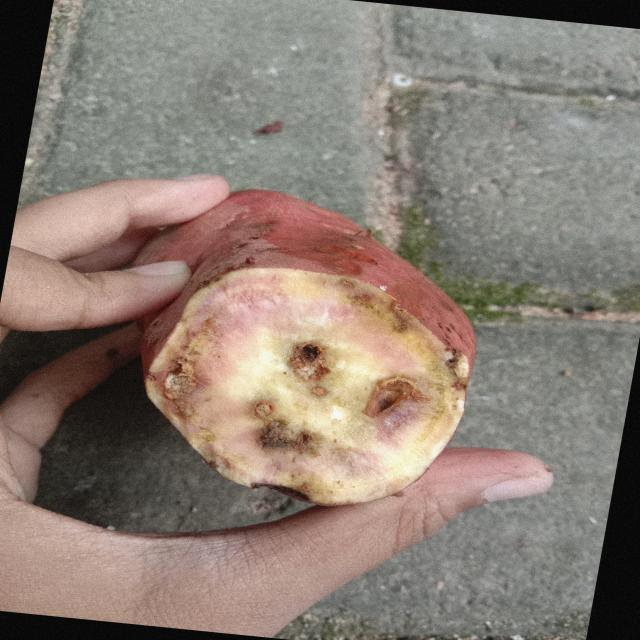Sick Sweet Potato_Tuber Rot: (147, 269, 467, 505)
